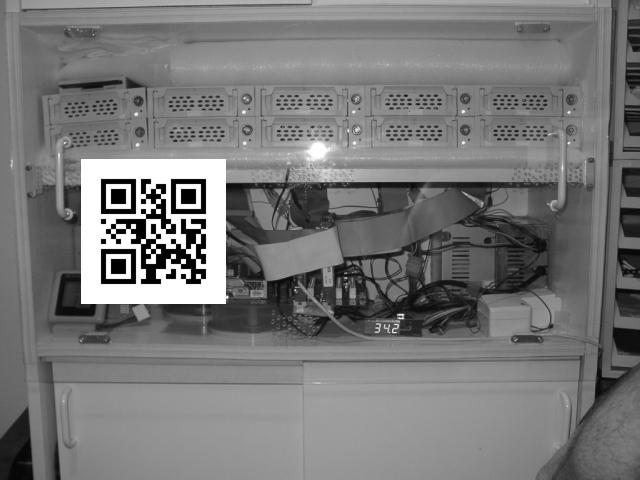qr_code: (79, 159, 224, 302)
